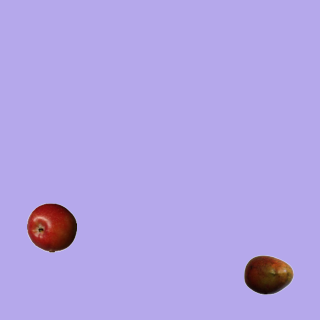Apple Braeburn: (26, 202, 76, 252)
Mango Red: (243, 249, 293, 299)
